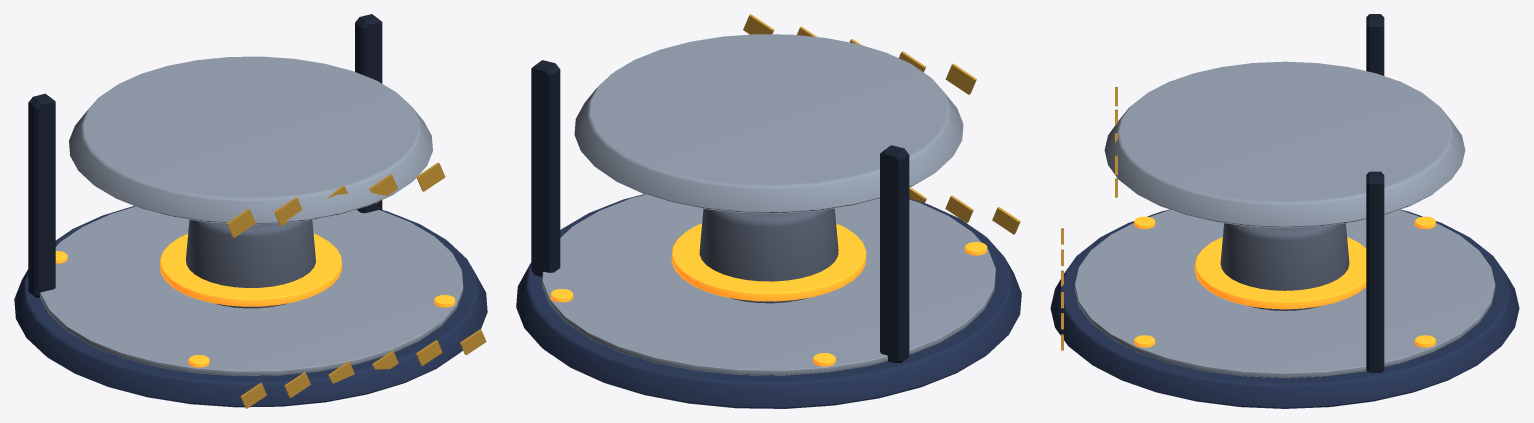
File: trap_launcher_charged.glb
3 renders of one model, left to right at view 1: azimuth 30°, elevation 25°; view 2: azimuth 150°, elevation 25°; view 3: azimuth 270°, elevation 25°, orthographic. The views are drawn at different scales.
Parts seen in each view (by area): view 1: trap_launcher_pad, trap_launcher_plate_rim, trap_launcher_plate, trap_launcher_cylinder, trap_launcher_guide_l, trap_launcher_ring, trap_launcher_hazard, trap_launcher_pad_hazard, trap_launcher_guide_r; view 2: trap_launcher_pad, trap_launcher_plate_rim, trap_launcher_plate, trap_launcher_cylinder, trap_launcher_guide_l, trap_launcher_guide_r, trap_launcher_ring, trap_launcher_pad_hazard, trap_launcher_hazard; view 3: trap_launcher_pad, trap_launcher_plate_rim, trap_launcher_plate, trap_launcher_cylinder, trap_launcher_ring, trap_launcher_guide_r, trap_launcher_guide_l.
Part boxes in pixels (box(x1,y1,x2,y2)): trap_launcher_pad: box(69, 56, 432, 224); trap_launcher_plate_rim: box(40, 206, 463, 375); trap_launcher_plate: box(14, 206, 487, 407); trap_launcher_cylinder: box(186, 219, 315, 308); trap_launcher_guide_l: box(28, 93, 55, 297); trap_launcher_ring: box(160, 234, 341, 306); trap_launcher_hazard: box(240, 329, 486, 408); trap_launcher_pad_hazard: box(226, 162, 445, 237); trap_launcher_guide_r: box(355, 14, 382, 213); trap_launcher_pad: box(574, 34, 963, 213); trap_launcher_plate_rim: box(542, 194, 995, 375); trap_launcher_plate: box(516, 194, 1021, 408); trap_launcher_cylinder: box(699, 208, 838, 303); trap_launcher_guide_l: box(880, 145, 909, 363); trap_launcher_guide_r: box(531, 60, 560, 276); trap_launcher_ring: box(671, 223, 866, 301); trap_launcher_pad_hazard: box(743, 14, 976, 94); trap_launcher_hazard: box(909, 187, 1020, 234); trap_launcher_pad: box(1104, 61, 1465, 227); trap_launcher_plate_rim: box(1074, 210, 1495, 377); trap_launcher_plate: box(1050, 209, 1519, 408); trap_launcher_cylinder: box(1220, 223, 1349, 310); trap_launcher_ring: box(1194, 237, 1366, 309); trap_launcher_guide_r: box(1366, 171, 1384, 372); trap_launcher_guide_l: box(1366, 14, 1384, 75).
Bounding box in the file's own units: 1.56 × 0.7908 × 1.56.
